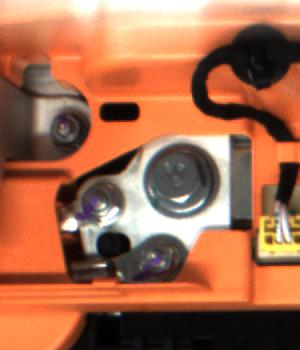nut_b: (139, 139, 225, 216)
screw_s: (74, 177, 126, 221), (132, 241, 186, 277), (39, 104, 82, 149)
